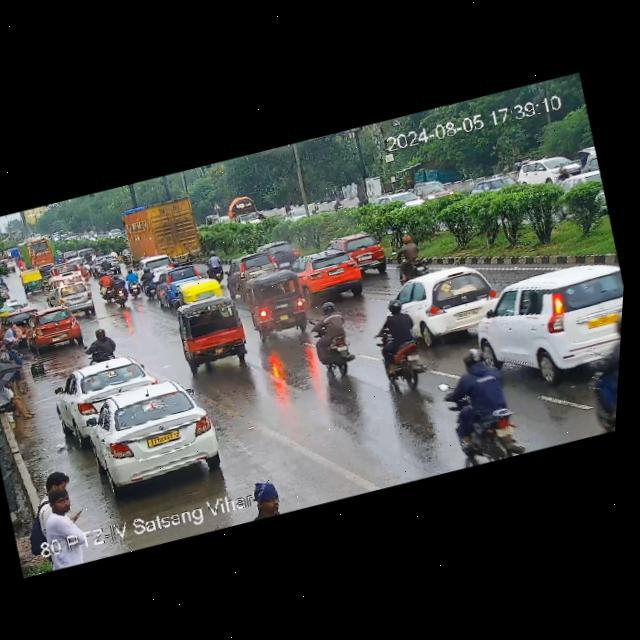bus: (6, 231, 63, 277)
car: (58, 368, 231, 502), (465, 254, 625, 388), (396, 257, 511, 345), (50, 347, 164, 434), (168, 293, 253, 371), (240, 262, 314, 342), (293, 244, 374, 308), (322, 224, 395, 274), (21, 303, 87, 351), (515, 146, 587, 190), (223, 184, 277, 240), (41, 268, 99, 316), (369, 181, 430, 222), (167, 272, 227, 311), (150, 258, 209, 297), (469, 167, 535, 201), (404, 170, 460, 210), (224, 248, 281, 283), (136, 245, 183, 285), (259, 235, 302, 270), (18, 265, 51, 293)
motorcycle: (428, 341, 536, 469), (370, 288, 438, 389), (569, 310, 622, 432), (301, 297, 361, 383), (387, 230, 441, 278), (102, 274, 133, 308), (122, 268, 147, 300)
person: (31, 485, 94, 549), (0, 373, 40, 424), (245, 476, 287, 520), (36, 465, 75, 497), (0, 319, 26, 348)
truck: (114, 188, 220, 275)
